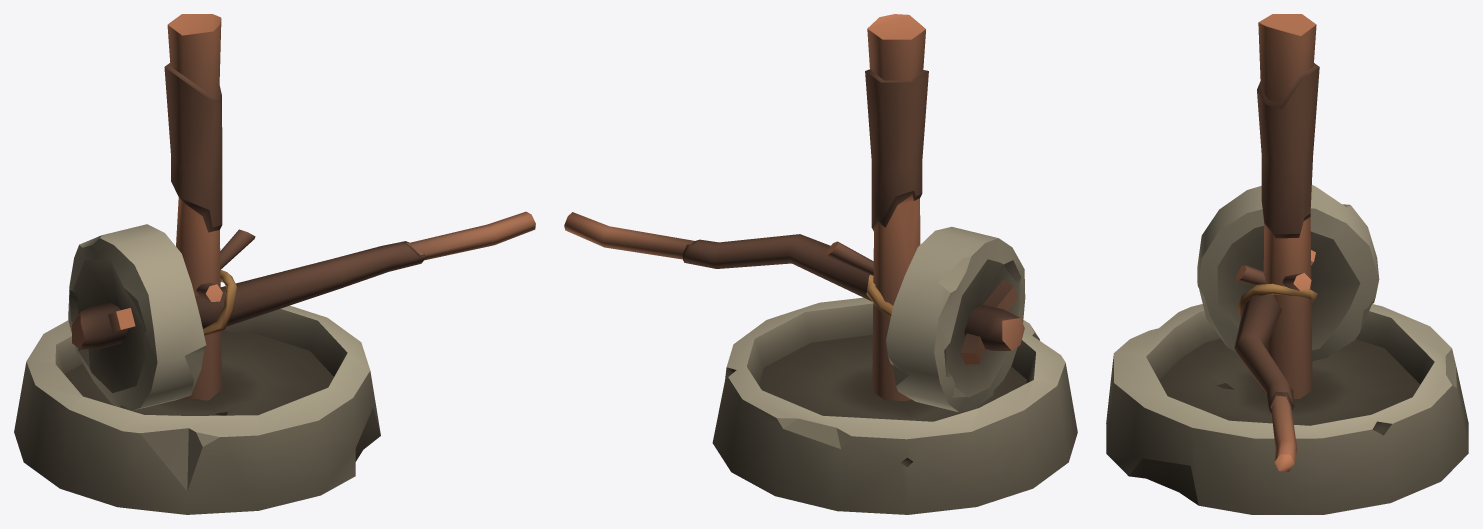
Rendered from Stone_Mill_2A.fbx.
3 renders of one model, left to right at view 1: azimuth 30°, elevation 25°; view 2: azimuth 150°, elevation 25°; view 3: azimuth 270°, elevation 25°, orthographic.
Parts seen in each view (by area): view 1: Stone_Mill_2A, Stone_Mill_2A_Wheel, Stone_Mill_2A_Arm; view 2: Stone_Mill_2A, Stone_Mill_2A_Wheel, Stone_Mill_2A_Arm; view 3: Stone_Mill_2A, Stone_Mill_2A_Wheel, Stone_Mill_2A_Arm.
Part boxes in pixels (left/top/right/bottom): Stone_Mill_2A: left=14, top=14, right=380, bottom=514; Stone_Mill_2A_Wheel: left=68, top=224, right=206, bottom=410; Stone_Mill_2A_Arm: left=72, top=211, right=535, bottom=349; Stone_Mill_2A: left=712, top=14, right=1077, bottom=514; Stone_Mill_2A_Wheel: left=886, top=226, right=1025, bottom=412; Stone_Mill_2A_Arm: left=564, top=212, right=1024, bottom=364; Stone_Mill_2A: left=1106, top=14, right=1468, bottom=514; Stone_Mill_2A_Wheel: left=1197, top=185, right=1379, bottom=361; Stone_Mill_2A_Arm: left=1234, top=250, right=1317, bottom=471.
Size of the model in its own units: 374 by 305 by 240.
